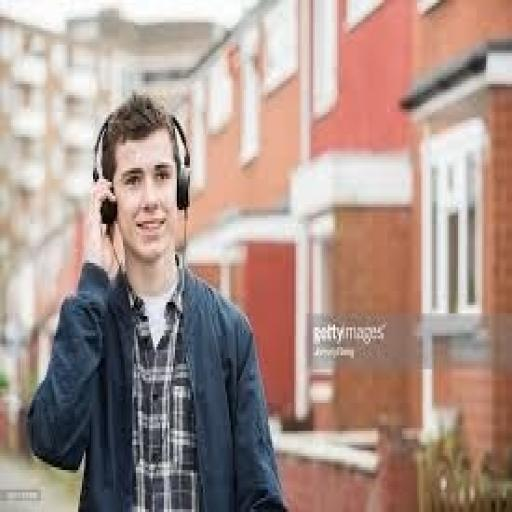listening_to_music: (24, 90, 290, 509)
